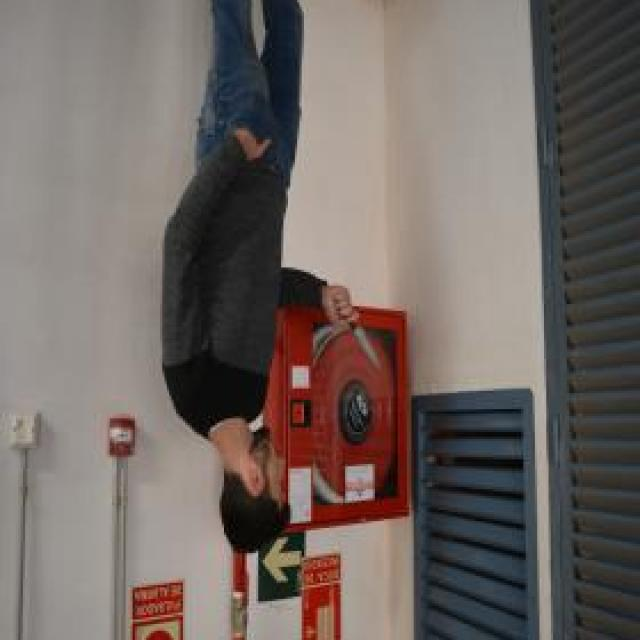knife: (343, 312, 382, 377)
